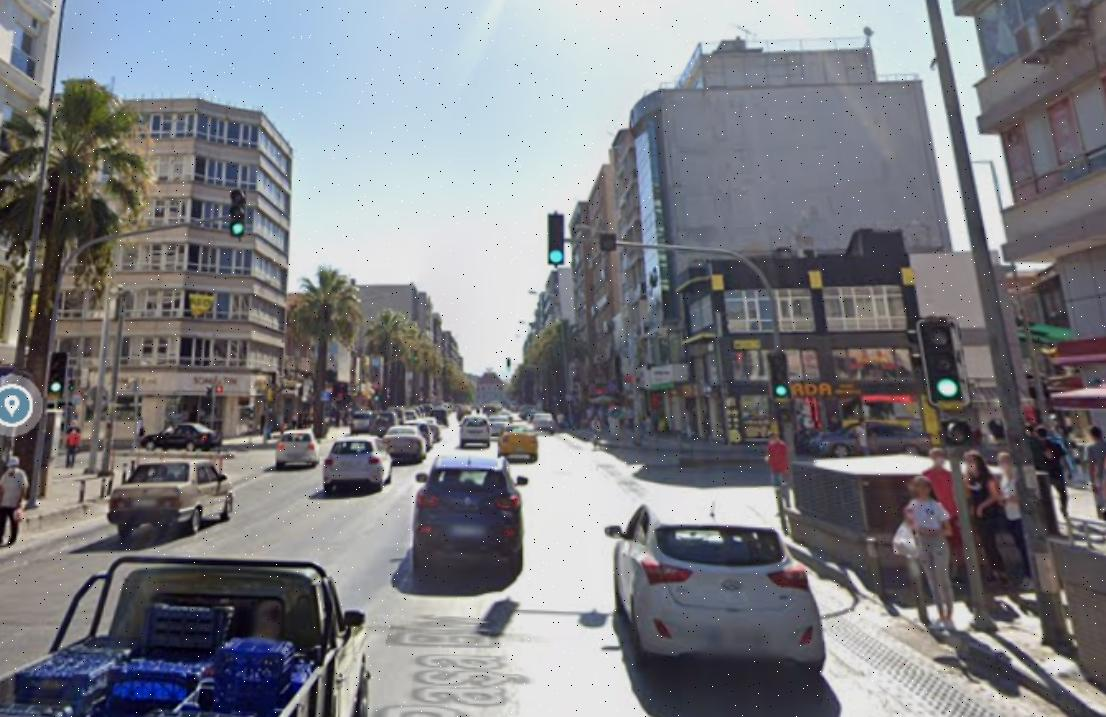greenlight: (913, 313, 973, 408), (544, 207, 570, 272), (766, 348, 794, 402), (228, 186, 248, 238), (49, 351, 67, 397)
